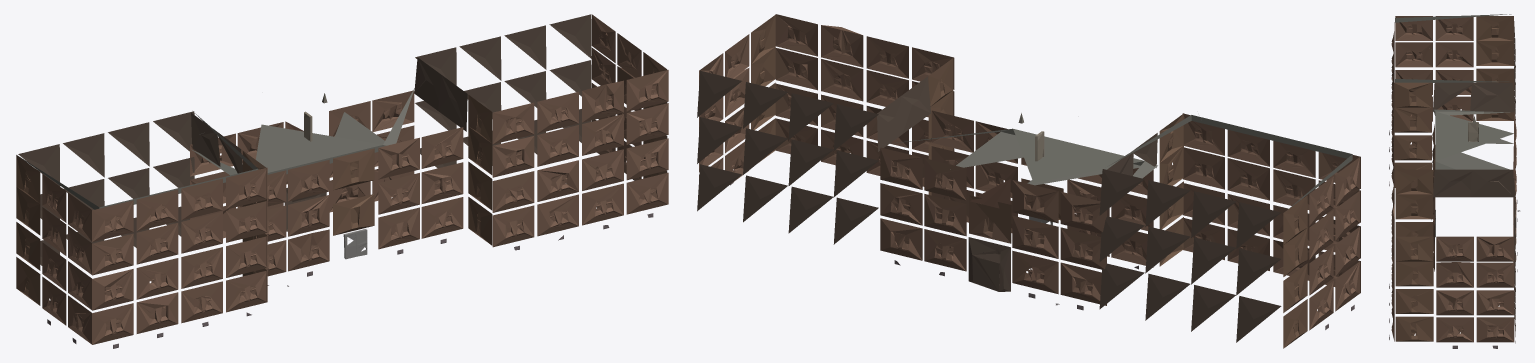
File: prison-block.lod2.glb
3 views of the same model, side by side, from view 1: azimuth 30°, elevation 25°; view 2: azimuth 150°, elevation 25°; view 3: azimuth 270°, elevation 25° (orthographic). The views are drawn at different scales.
Parts seen in each view (by area): view 1: Jail_Build1_MAT_0; view 2: Jail_Build1_MAT_0; view 3: Jail_Build1_MAT_0.
Boxes of the visible parts, x1,y1,x2,y2 form: Jail_Build1_MAT_0: (16, 14, 668, 348); Jail_Build1_MAT_0: (697, 14, 1360, 348); Jail_Build1_MAT_0: (1389, 14, 1520, 348).
Bounding box in the file's own units: 51.78 × 14.94 × 12.77.
